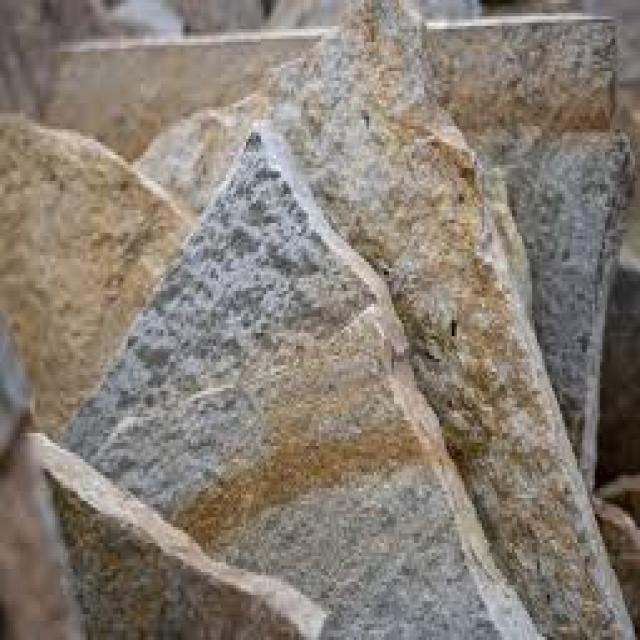Metamorphic: (2, 7, 635, 630)
